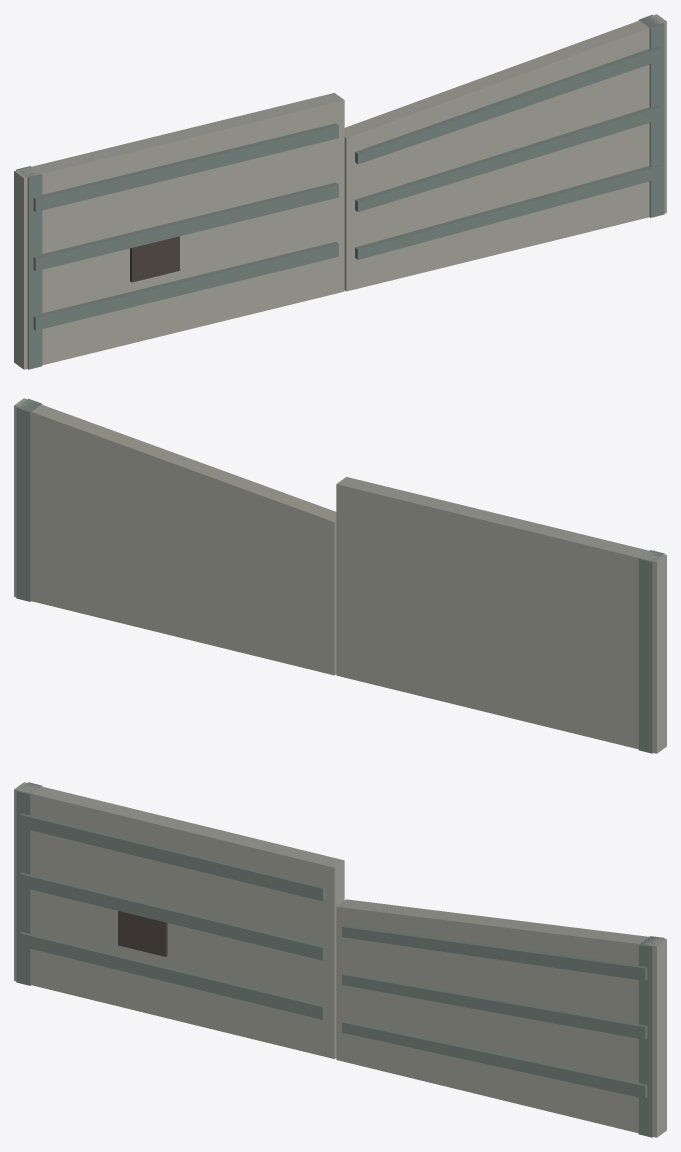
File: SM_PuertaViaDoble_v4_Blindada_e1_Danado_LOD1.fbx
3 views of the same model, one above another, from view 1: azimuth 30°, elevation 25°; view 2: azimuth 150°, elevation 25°; view 3: azimuth 330°, elevation 25° (orthographic).
Visible parts, largest first — view 1: Hoja_O, Hoja_E; view 2: Hoja_O, Hoja_E; view 3: Hoja_O, Hoja_E.
Boxes of the visible parts, bbox=[...] form: Hoja_O: bbox=[14, 93, 344, 369]; Hoja_E: bbox=[344, 14, 666, 291]; Hoja_O: bbox=[336, 477, 666, 753]; Hoja_E: bbox=[14, 398, 336, 675]; Hoja_O: bbox=[14, 782, 344, 1058]; Hoja_E: bbox=[336, 899, 666, 1137].
Size of what is drawn, in the model's own units: 7.38 by 2.1 by 0.28.
